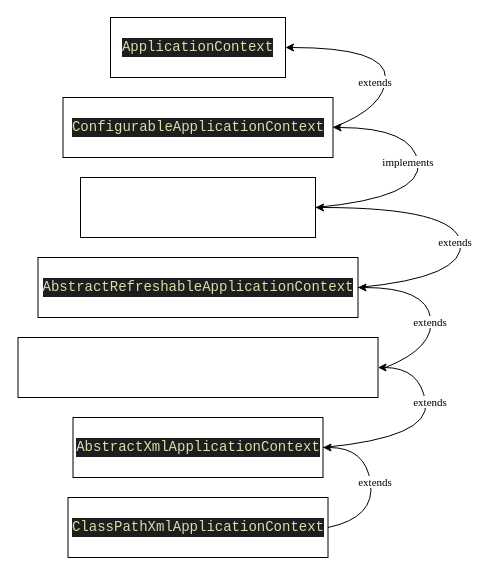
The diagram is 502 pixels wide and 575 high, and some of its shapes have lost their labels. Each missing label, with the box of its shape:
Abstract ApplicationContext: (80, 176, 316, 238)
AbstractRefreshableConfig ApplicationContext: (17, 336, 378, 398)
